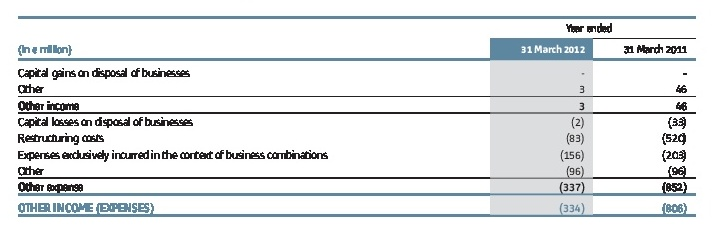table: (0, 0, 712, 233)
